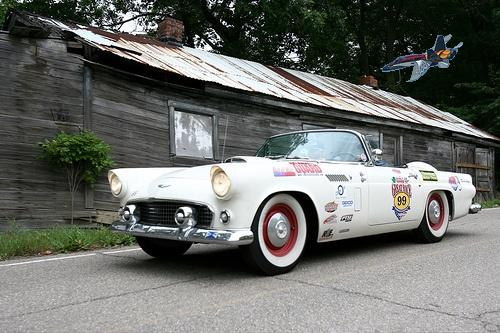tampered: (383, 35, 463, 82)
